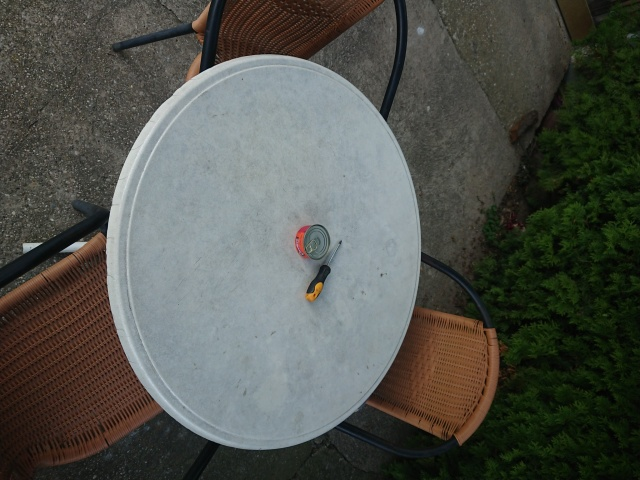Gavrilovic Pork Liver Pate 100g: (293, 222, 331, 260)
